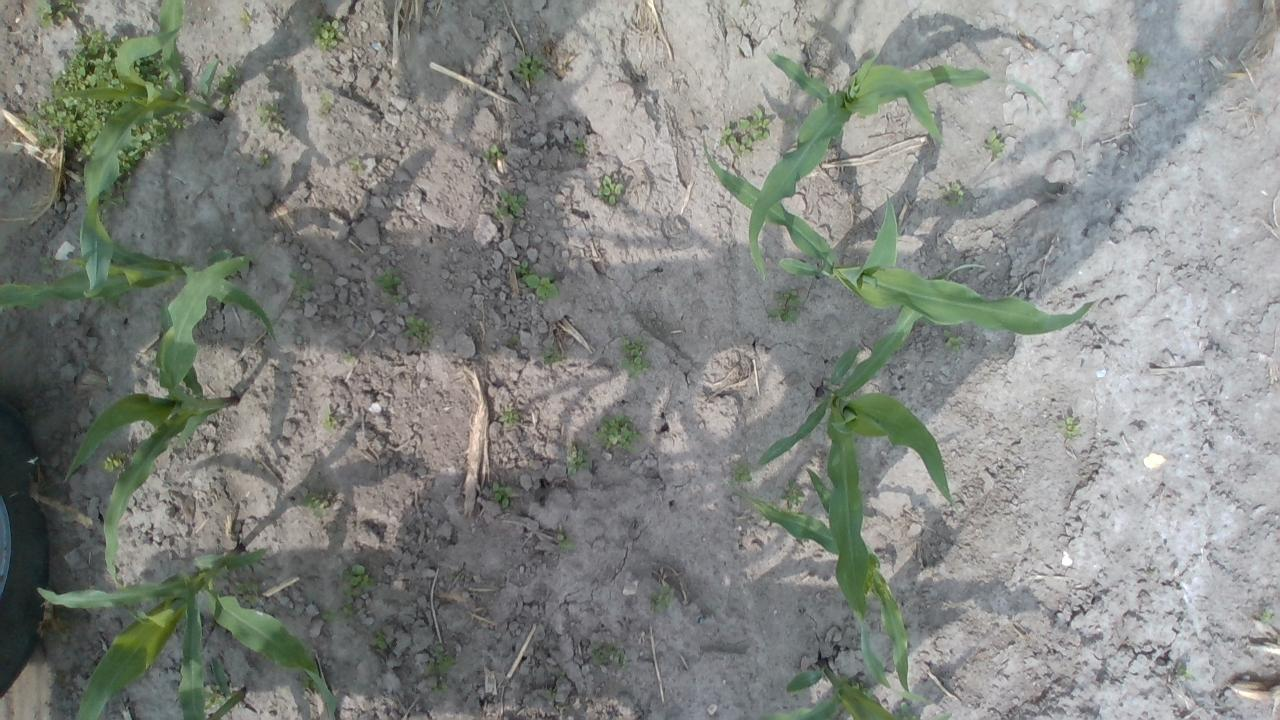Maize: (700, 134, 1095, 336), (758, 304, 956, 705), (748, 46, 1052, 269), (65, 253, 252, 598), (39, 546, 338, 720), (55, 0, 226, 298), (732, 468, 912, 702), (0, 235, 276, 344), (176, 569, 248, 720), (761, 657, 893, 720)
Weeds: (25, 23, 134, 158), (116, 108, 192, 174), (719, 108, 770, 159), (591, 413, 642, 454), (92, 175, 132, 223), (128, 50, 170, 91), (306, 14, 348, 54), (341, 560, 378, 601), (622, 334, 651, 379), (588, 640, 627, 673), (34, 0, 78, 29), (493, 190, 527, 226), (768, 290, 802, 325), (776, 479, 809, 514), (522, 271, 560, 301), (424, 641, 456, 675), (256, 98, 288, 130), (97, 448, 130, 479), (514, 54, 548, 84), (373, 271, 402, 306), (402, 315, 434, 346), (845, 677, 878, 703), (564, 446, 592, 476), (490, 480, 516, 512), (92, 291, 128, 314), (598, 175, 624, 206), (288, 272, 319, 298), (216, 63, 242, 92), (237, 578, 260, 610), (1054, 415, 1082, 440), (1127, 49, 1151, 78), (201, 682, 225, 710), (322, 603, 352, 625), (650, 586, 674, 613), (984, 129, 1004, 159), (726, 466, 752, 488), (944, 182, 966, 208), (300, 671, 320, 696), (1068, 99, 1087, 125), (942, 330, 964, 352), (498, 407, 521, 427), (25, 404, 49, 422), (368, 630, 388, 651), (898, 701, 919, 720), (482, 143, 504, 161), (557, 535, 580, 552), (302, 492, 322, 511), (1174, 663, 1194, 680), (172, 48, 185, 74), (318, 92, 336, 109), (322, 412, 338, 430), (37, 254, 52, 273), (431, 679, 448, 695), (542, 350, 560, 365), (256, 153, 274, 168), (514, 257, 528, 275), (572, 135, 584, 155), (1259, 610, 1276, 624), (216, 92, 228, 110), (544, 686, 558, 700), (239, 10, 252, 25), (869, 553, 881, 568), (350, 158, 362, 170), (343, 353, 354, 363), (511, 334, 521, 344), (558, 670, 568, 680), (256, 665, 264, 673)
